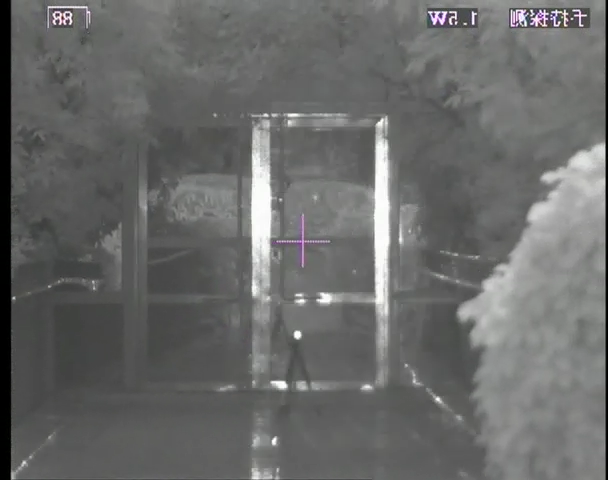my: (293, 329, 302, 341)
